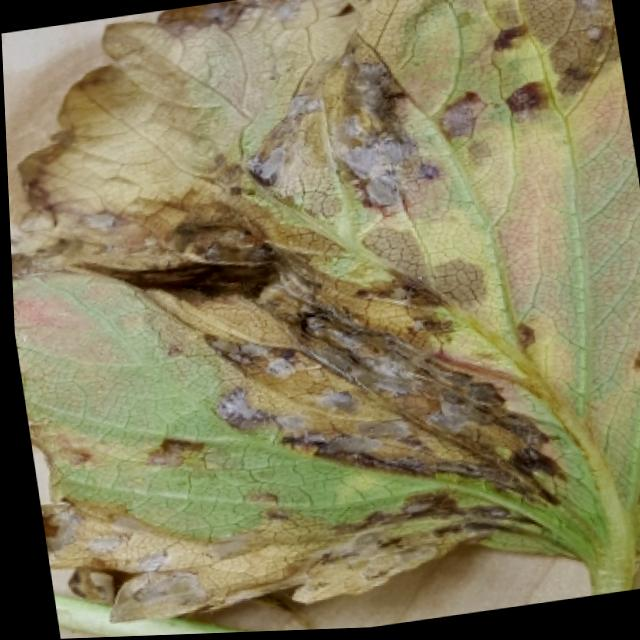Angular Leafspot: (9, 0, 640, 624)
